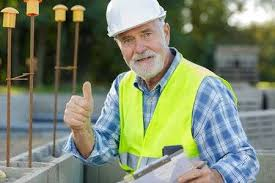Person_wearing_helmet: (103, 0, 167, 50)
